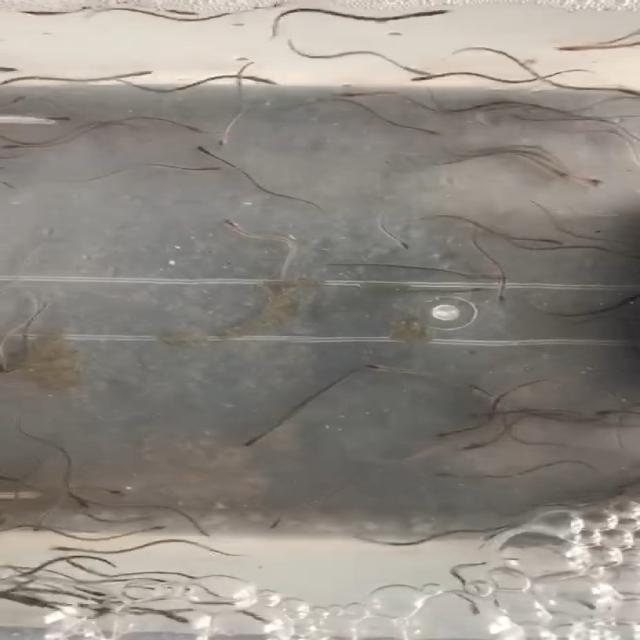active_glass_eel: (405, 3, 463, 24), (2, 5, 77, 21), (385, 238, 427, 258), (458, 596, 493, 618), (329, 89, 397, 100), (233, 439, 273, 457), (609, 84, 640, 106), (82, 580, 115, 600), (55, 555, 90, 573), (36, 541, 83, 554), (27, 525, 70, 539), (416, 124, 446, 144), (463, 271, 498, 288), (244, 518, 288, 531), (473, 409, 515, 422), (588, 175, 620, 192), (462, 438, 495, 454), (219, 217, 249, 234), (361, 361, 392, 377), (256, 74, 290, 88), (164, 610, 192, 627), (125, 70, 164, 82), (556, 44, 596, 55), (165, 8, 205, 19), (0, 96, 44, 106), (428, 431, 456, 446), (431, 469, 469, 480), (196, 166, 232, 177), (64, 492, 100, 503), (45, 113, 83, 123), (484, 520, 514, 532), (2, 141, 23, 158), (409, 73, 429, 90), (414, 63, 436, 78), (468, 383, 490, 398), (185, 123, 208, 137), (490, 293, 511, 308), (593, 407, 616, 420), (552, 167, 574, 180), (192, 143, 211, 158), (544, 238, 572, 248), (474, 534, 504, 543), (106, 489, 133, 499), (7, 590, 27, 603), (209, 138, 234, 147), (590, 246, 612, 256), (152, 524, 174, 534), (77, 502, 97, 511), (470, 286, 486, 296)
